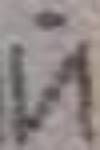J_RUS: (0, 0, 99, 149)
